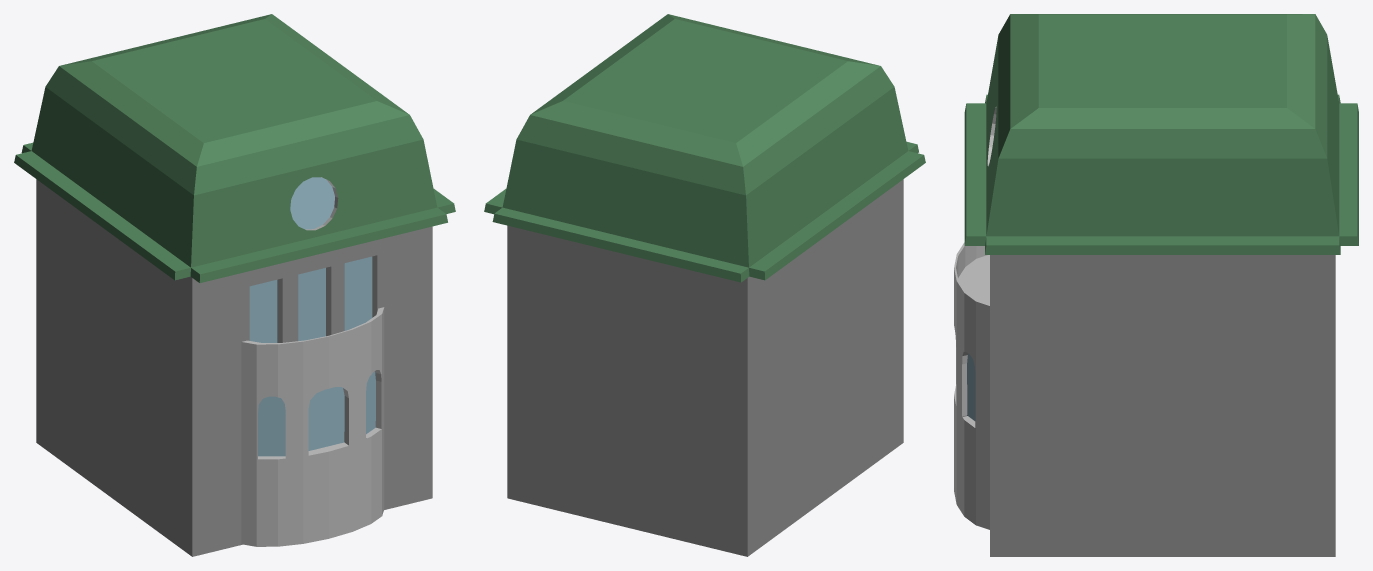
File: building.6.glb
3 renders of one model, left to right at view 1: azimuth 30°, elevation 25°; view 2: azimuth 150°, elevation 25°; view 3: azimuth 270°, elevation 25°, orthographic. The views are drawn at different scales.
Parts seen in each view (by area): view 1: building; view 2: building; view 3: building.
Part boxes in pixels (bbox=[...]): building: bbox=[14, 14, 455, 556]; building: bbox=[484, 14, 925, 556]; building: bbox=[954, 14, 1358, 556].
Bounding box in the file's own units: 9.36 × 12.39 × 10.55.
1 material, 1 textured.
